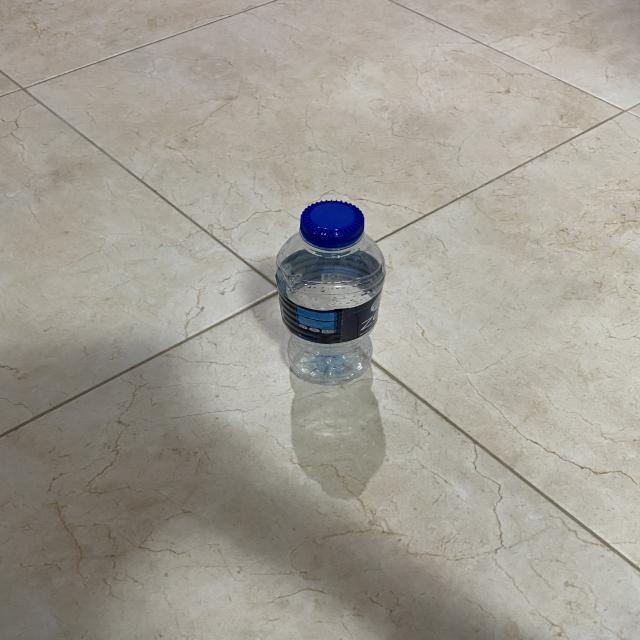chai: (276, 201, 385, 384)
